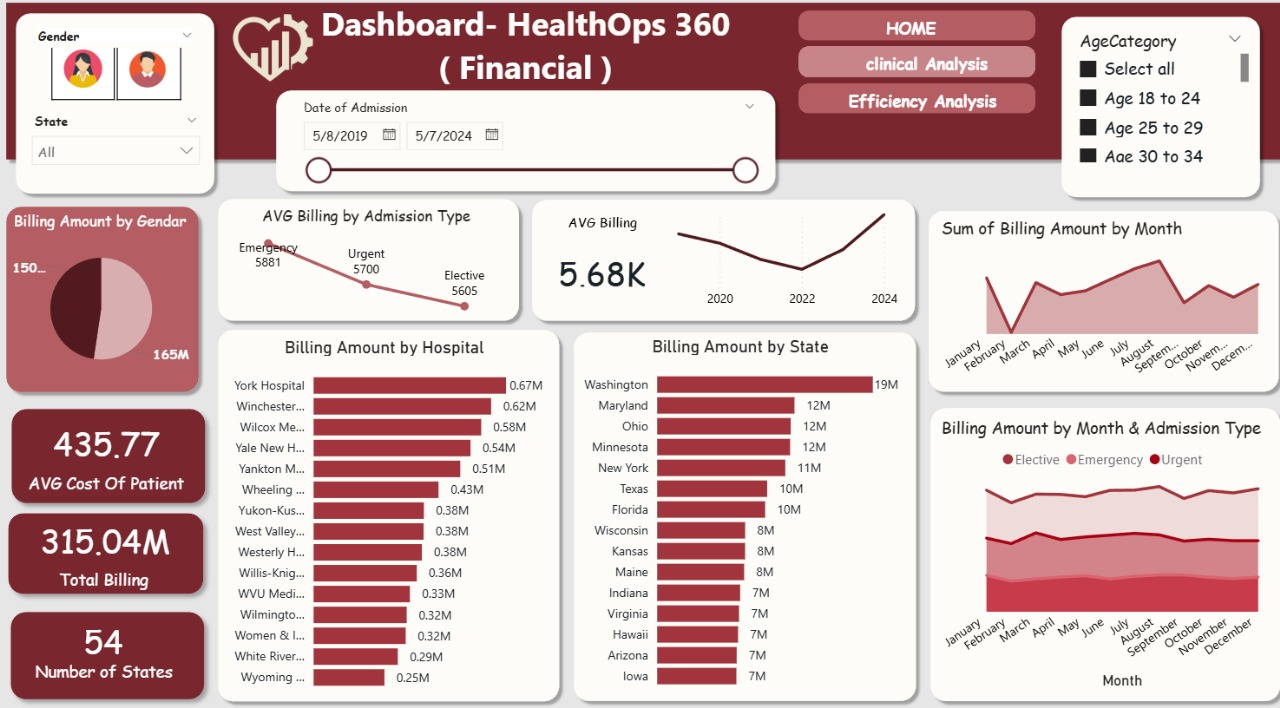

The page's visual inventory and layout, read from the dashboard file:
{"tool":"powerbi","page":{"name":"Duplicate of Financial analysis","canvas":[1280,720],"ordinal":1},"visuals":[{"type":"shape","box":[918.2,402.7,361.8,305.4],"z":0},{"type":"shape","box":[0,0,1280.2,169.8],"z":1000,"group":"g1"},{"type":"shape","box":[0,202.3,205.2,198.4],"z":1000},{"type":"shape","box":[3.8,401.7,210.2,111.4],"z":1000,"group":"g5"},{"type":"shape","box":[1048.9,14.1,211.3,193.4],"z":2000,"group":"g1"},{"type":"pieChart","title":"Billing Amount by Gendar","fields":{"Category":["الجدول2_3.Sex"],"Y":["Sum(الجدول2_3.Billing Amount)"]},"box":[9.7,213,183.8,176],"z":2000},{"type":"shape","box":[2.9,603.5,210,104.6],"z":2000,"group":"g5"},{"type":"shape","box":[9.4,10.4,211.3,193.4],"z":3000,"group":"g1"},{"type":"shape","box":[0,505.8,212,98.2],"z":3000},{"type":"group","id":"g1","title":"Group 1","box":[0,0,1280.2,207.5],"z":4000},{"type":"slicer","fields":{"Values":["الجدول2_3.Sex"]},"box":[25.9,26.7,178.5,83.7],"z":5000,"group":"g1"},{"type":"shape","box":[210.1,194.5,313.2,135.2],"z":5000,"group":"g4"},{"type":"shape","box":[522.7,195.5,394.5,134.2],"z":5000},{"type":"cardVisual","fields":{"Data":["الجدول2_3.AVG COST OF PATIENT"]},"box":[25.4,408,171.6,72.5],"z":5000,"group":"g5"},{"type":"textbox","box":[302.3,0,440.7,97.7],"z":6000,"group":"g1"},{"type":"group","id":"g2","title":"Group 3","box":[564,328,354,380.3],"z":6000},{"type":"cardVisual","fields":{"Data":["الجدول2_3.NUM.STATES"]},"box":[55.5,603.3,100.2,74.7],"z":6000,"group":"g5"},{"type":"shape","box":[794.3,14.3,235.7,30],"z":7000,"group":"g1"},{"type":"group","id":"g3","title":"Group 4","box":[210.1,324.9,353.1,383.2],"z":7000},{"type":"shape","box":[794.3,87.1,235.7,30],"z":8000,"group":"g1"},{"type":"cardVisual","fields":{"Data":["الجدول2_3.AVG BILLING"]},"box":[526.8,242.8,164.8,63.4],"z":8000},{"type":"cardVisual","fields":{"Data":["الجدول2_3.TOTAL BIKLLING"]},"box":[12.5,502.9,192.3,75],"z":8000,"group":"g5"},{"type":"shape","box":[794.3,50,235.7,31.4],"z":9000,"group":"g1"},{"type":"group","id":"g4","title":"Group 7","box":[210.1,194.5,313.2,135.2],"z":9000},{"type":"textbox","box":[17.8,654.1,178.5,43.6],"z":9000,"group":"g5"},{"type":"textbox","box":[820,14.3,178.6,35.7],"z":10000,"group":"g1"},{"type":"shape","box":[917.2,207.2,361.8,193.6],"z":10000},{"type":"textbox","box":[32.7,562.8,148.8,40.5],"z":10000,"group":"g5"},{"type":"textbox","box":[805.7,87.1,224.3,41.4],"z":11000,"group":"g1"},{"type":"areaChart","fields":{"Y":["الجدول2_3.AVG COST OF PATIENT"],"Category":["الجدول2_3.State"]},"box":[931.4,218.4,334.2,171.3],"z":11000},{"type":"shape","box":[564,328,354,380.3],"z":11000,"group":"g2"},{"type":"textbox","box":[19.8,467.3,177.5,35.3],"z":11000,"group":"g5"},{"type":"textbox","box":[814.2,50,215.6,37.1],"z":12000,"group":"g1"},{"type":"shape","box":[210.1,324.9,353.1,383.2],"z":12000,"group":"g3"},{"type":"areaChart","title":"Billing Amount by Month & Admission Type","fields":{"Category":["الجدول2_3.Date of Admission.Variation.Date Hierarchy.Month"],"Y":["Sum(الجدول2_3.Billing Amount)"],"Series":["الجدول2_3.Admission Type"]},"box":[931.8,417.3,334.6,276.2],"z":12000},{"type":"slicer","fields":{"Values":["الجدول2_3.AgeCategory"]},"box":[1061.2,27.5,186.2,142.5],"z":13000,"group":"g1"},{"type":"lineChart","title":"AVG Billing  by Length of Stay","fields":{"Y":["الجدول2_3.AVG BILLING"],"Category":["الجدول2_3.Date of Admission.Variation.Date Hierarchy.Year"]},"box":[657.5,202.3,240.2,116.7],"z":13000},{"type":"textbox","box":[517.4,210.6,168.6,36.1],"z":14000},{"type":"lineChart","title":"AVG Billing by Admission Type","fields":{"Category":["الجدول2_3.Admission Type"],"Y":["الجدول2_3.AVG BILLING"]},"box":[223.7,208.1,283,110.9],"z":15000},{"type":"group","id":"g5","title":"Group 2","box":[2.9,401.7,211.1,306.4],"z":16000},{"type":"image","box":[220.8,13.8,102.6,88],"z":17000},{"type":"image","box":[48.3,53.5,70.7,38],"z":18000},{"type":"image","box":[110.4,55.2,73.3,36.2],"z":19000},{"type":"clusteredBarChart","fields":{"Category":["الجدول2_3.Hospital"],"Y":["Sum(الجدول2_3.Billing Amount)"]},"box":[215.8,338.9,332.6,360.4],"z":19000,"group":"g3"},{"type":"slicer","fields":{"Values":["الجدول2_3.State"]},"box":[22.6,111.3,186.8,72.6],"z":20000,"group":"g1"},{"type":"clusteredBarChart","fields":{"Category":["الجدول2_3.State"],"Y":["Sum(الجدول2_3.Billing Amount)"]},"box":[570.9,338.7,331.7,359.9],"z":20000,"group":"g2"},{"type":"shape","box":[267.9,86.8,510.3,114.1],"z":22000,"group":"g1"},{"type":"slicer","fields":{"Values":["الجدول2_3.Date of Admission"]},"box":[290,97.5,473.8,97.5],"z":24000,"group":"g1"}]}

Visuals, with their boxes in screenshot pixels (x1, y1, x2, y2), scaled from the page's 1280x720 canvas onto the 1280x708 screenshot:
shape: (x1=918, y1=396, x2=1279, y2=696)
shape: (x1=0, y1=0, x2=1279, y2=167)
shape: (x1=0, y1=199, x2=205, y2=394)
shape: (x1=4, y1=395, x2=214, y2=505)
shape: (x1=1049, y1=14, x2=1260, y2=204)
"Billing Amount by Gendar" pieChart: (x1=10, y1=209, x2=194, y2=383)
shape: (x1=3, y1=593, x2=213, y2=696)
shape: (x1=9, y1=10, x2=221, y2=200)
shape: (x1=0, y1=497, x2=212, y2=594)
"Group 1" group: (x1=0, y1=0, x2=1279, y2=204)
slicer - الجدول2_3.Sex: (x1=26, y1=26, x2=204, y2=109)
shape: (x1=210, y1=191, x2=523, y2=324)
shape: (x1=523, y1=192, x2=917, y2=324)
cardVisual - الجدول2_3.AVG COST OF PATIENT: (x1=25, y1=401, x2=197, y2=472)
textbox: (x1=302, y1=0, x2=743, y2=96)
"Group 3" group: (x1=564, y1=323, x2=918, y2=696)
cardVisual - الجدول2_3.NUM.STATES: (x1=56, y1=593, x2=156, y2=667)
shape: (x1=794, y1=14, x2=1030, y2=44)
"Group 4" group: (x1=210, y1=319, x2=563, y2=696)
shape: (x1=794, y1=86, x2=1030, y2=115)
cardVisual - الجدول2_3.AVG BILLING: (x1=527, y1=239, x2=692, y2=301)
cardVisual - الجدول2_3.TOTAL BIKLLING: (x1=12, y1=495, x2=205, y2=568)
shape: (x1=794, y1=49, x2=1030, y2=80)
"Group 7" group: (x1=210, y1=191, x2=523, y2=324)
textbox: (x1=18, y1=643, x2=196, y2=686)
textbox: (x1=820, y1=14, x2=999, y2=49)
shape: (x1=917, y1=204, x2=1279, y2=394)
textbox: (x1=33, y1=553, x2=182, y2=593)
textbox: (x1=806, y1=86, x2=1030, y2=126)
areaChart - الجدول2_3.AVG COST OF PATIENT x الجدول2_3.State: (x1=931, y1=215, x2=1266, y2=383)
shape: (x1=564, y1=323, x2=918, y2=696)
textbox: (x1=20, y1=460, x2=197, y2=494)
textbox: (x1=814, y1=49, x2=1030, y2=86)
shape: (x1=210, y1=319, x2=563, y2=696)
"Billing Amount by Month & Admission Type" areaChart: (x1=932, y1=410, x2=1266, y2=682)
slicer - الجدول2_3.AgeCategory: (x1=1061, y1=27, x2=1247, y2=167)
"AVG Billing  by Length of Stay" lineChart: (x1=658, y1=199, x2=898, y2=314)
textbox: (x1=517, y1=207, x2=686, y2=243)
"AVG Billing by Admission Type" lineChart: (x1=224, y1=205, x2=507, y2=314)
"Group 2" group: (x1=3, y1=395, x2=214, y2=696)
image: (x1=221, y1=14, x2=323, y2=100)
image: (x1=48, y1=53, x2=119, y2=90)
image: (x1=110, y1=54, x2=184, y2=90)
clusteredBarChart - الجدول2_3.Hospital x Sum(الجدول2_3.Billing Amount): (x1=216, y1=333, x2=548, y2=688)
slicer - الجدول2_3.State: (x1=23, y1=109, x2=209, y2=181)
clusteredBarChart - الجدول2_3.State x Sum(الجدول2_3.Billing Amount): (x1=571, y1=333, x2=903, y2=687)
shape: (x1=268, y1=85, x2=778, y2=198)
slicer - الجدول2_3.Date of Admission: (x1=290, y1=96, x2=764, y2=192)
